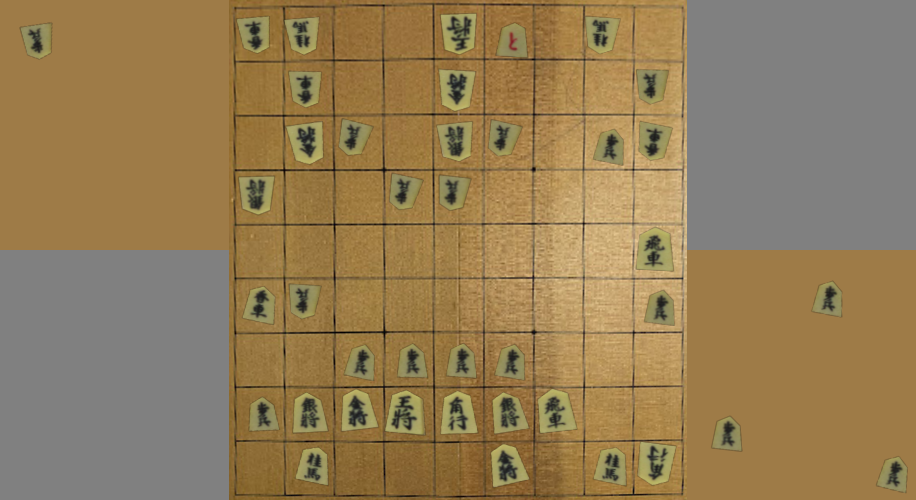A: (491, 445, 529, 487), (539, 390, 576, 432), (387, 392, 423, 434), (638, 229, 672, 271), (494, 392, 528, 433), (441, 392, 475, 433), (343, 391, 377, 430), (294, 394, 327, 432), (296, 449, 328, 485), (594, 449, 626, 485), (243, 287, 274, 324), (594, 130, 624, 165), (645, 291, 674, 326), (495, 346, 524, 380), (398, 344, 427, 378), (497, 24, 526, 57), (250, 398, 279, 431), (345, 346, 373, 380), (448, 345, 475, 377)
B: (638, 443, 675, 484), (287, 122, 322, 163), (441, 14, 476, 54), (440, 70, 475, 110), (240, 176, 273, 214), (438, 123, 471, 160), (639, 122, 672, 159), (237, 17, 269, 53), (587, 17, 619, 53), (287, 18, 318, 54), (290, 72, 321, 107), (391, 174, 421, 209), (341, 120, 371, 154), (490, 121, 520, 155), (440, 176, 470, 209), (637, 70, 667, 103), (291, 285, 319, 318)
C: (877, 458, 908, 492), (813, 282, 842, 316), (713, 417, 741, 451)
D: (21, 24, 51, 58)
